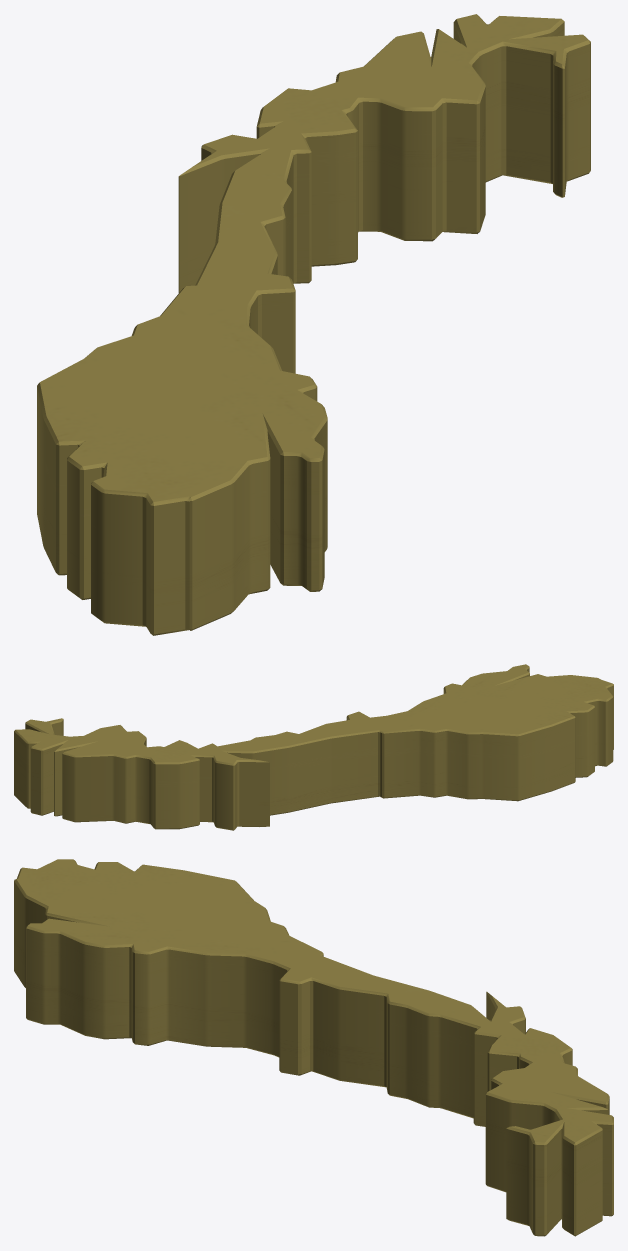
File: norway.DAE
3 views of the same model, one above another, from view 1: azimuth 30°, elevation 25°; view 2: azimuth 150°, elevation 25°; view 3: azimuth 270°, elevation 25° (orthographic). The views are drawn at different scales.
Parts seen in each view (by area): view 1: Norway; view 2: Norway; view 3: Norway.
Boxes of the visible parts, x1=… form: Norway: x1=37, y1=14, x2=590, y2=635; Norway: x1=14, y1=664, x2=613, y2=830; Norway: x1=14, y1=859, x2=613, y2=1236.
Bounding box in the file's own units: 162 × 145 × 25.
Materials: 1 (1 with a texture image).
